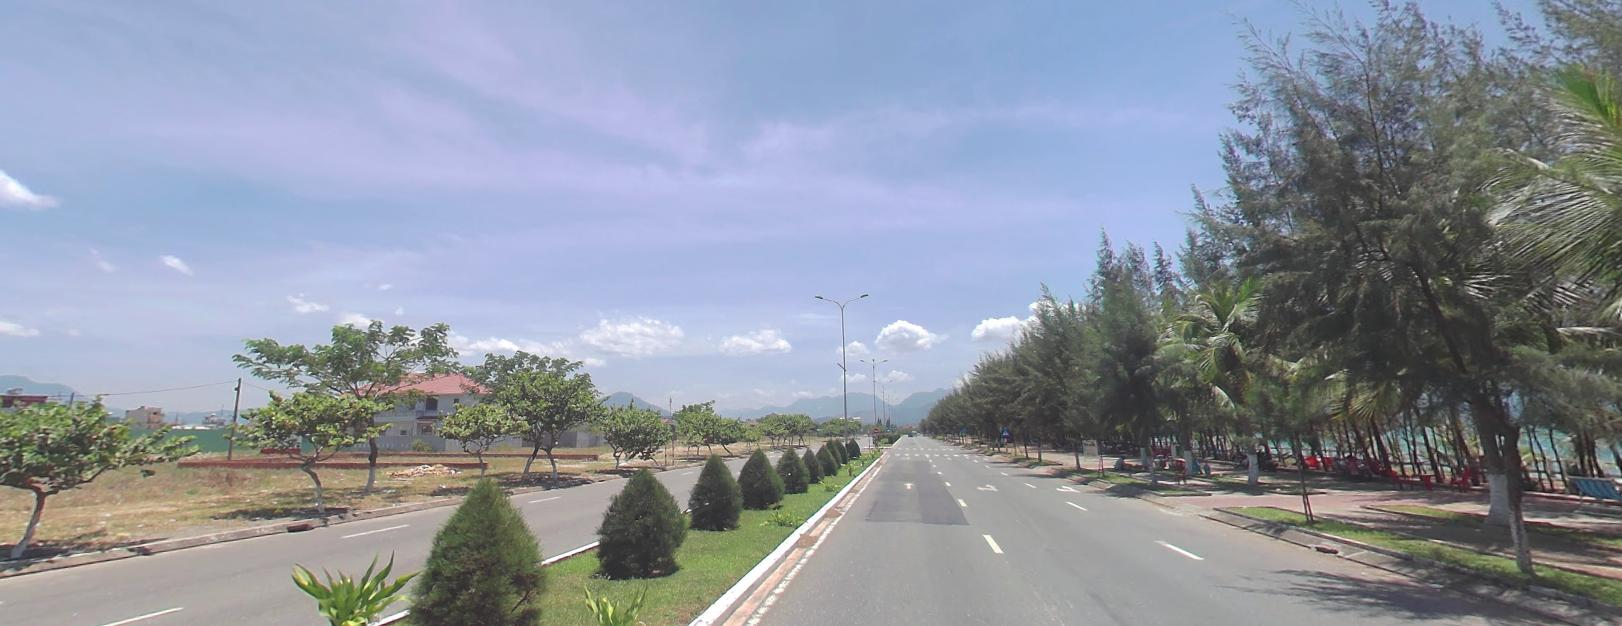Cam nguoc chieu: (873, 426, 878, 431)
